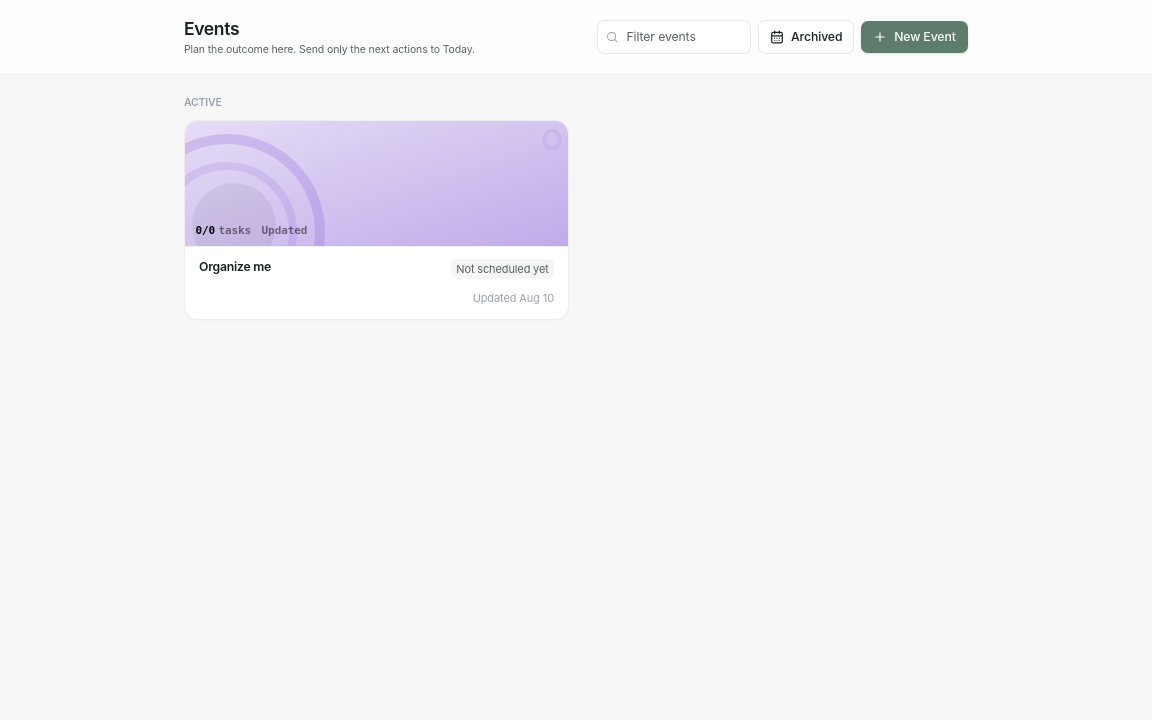
it: EventsView Event-first surface › UX S9: runs AI organize and applies the suggestion through the modal
Step 1. Click the button with test id "event-card-event-1" → (376, 220), box [184, 120, 569, 320]
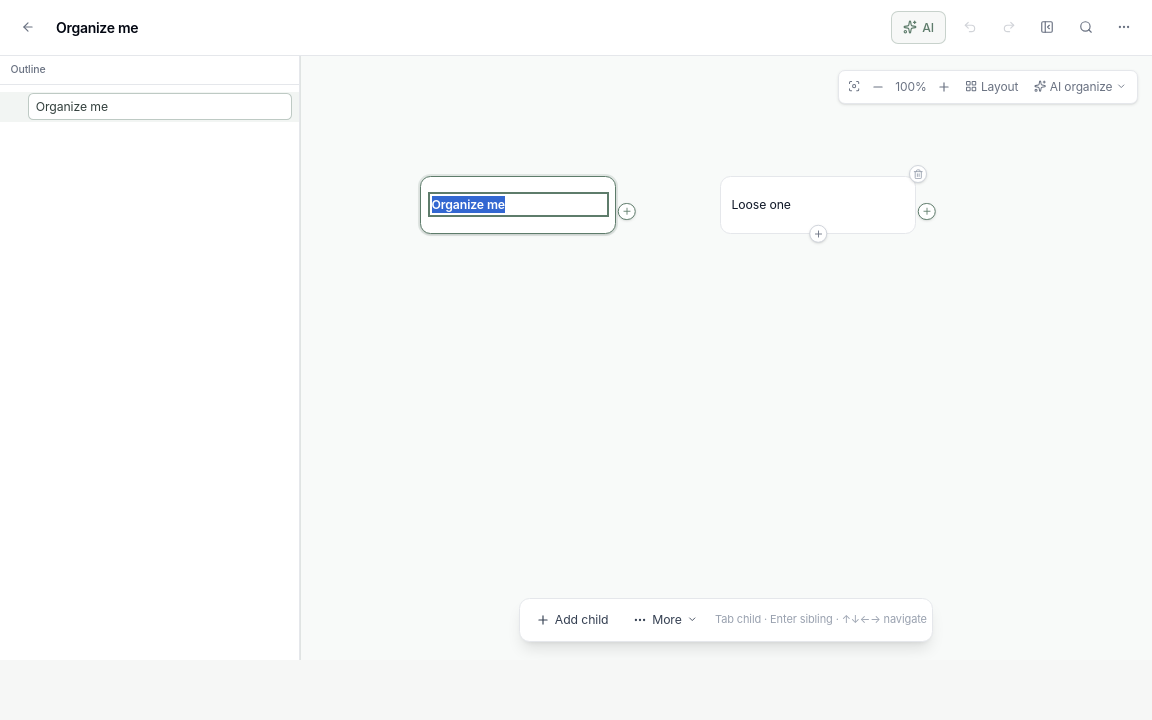
Expected: the element with test id "event-detail" is shown
Step 2. Click the button with test id "event-organize-button" → (1080, 86), box [1027, 74, 1134, 99]
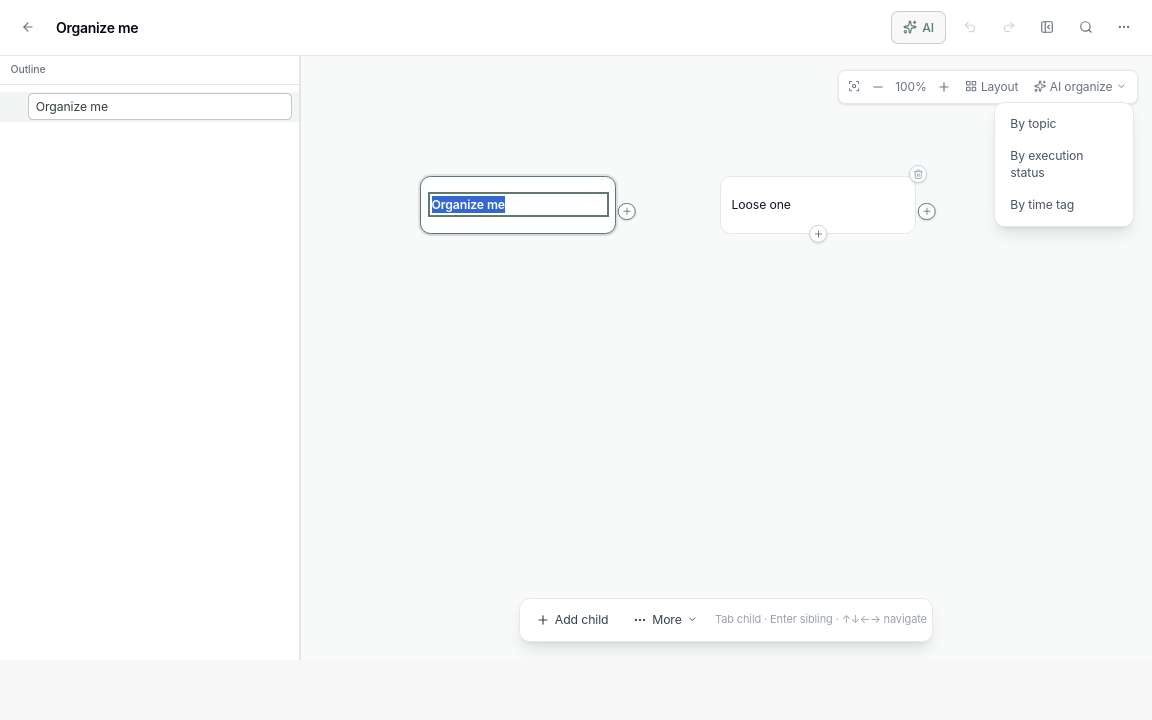
Step 3. Click the button with test id "event-organize-by_topic" → (1064, 124), box [1000, 108, 1127, 140]
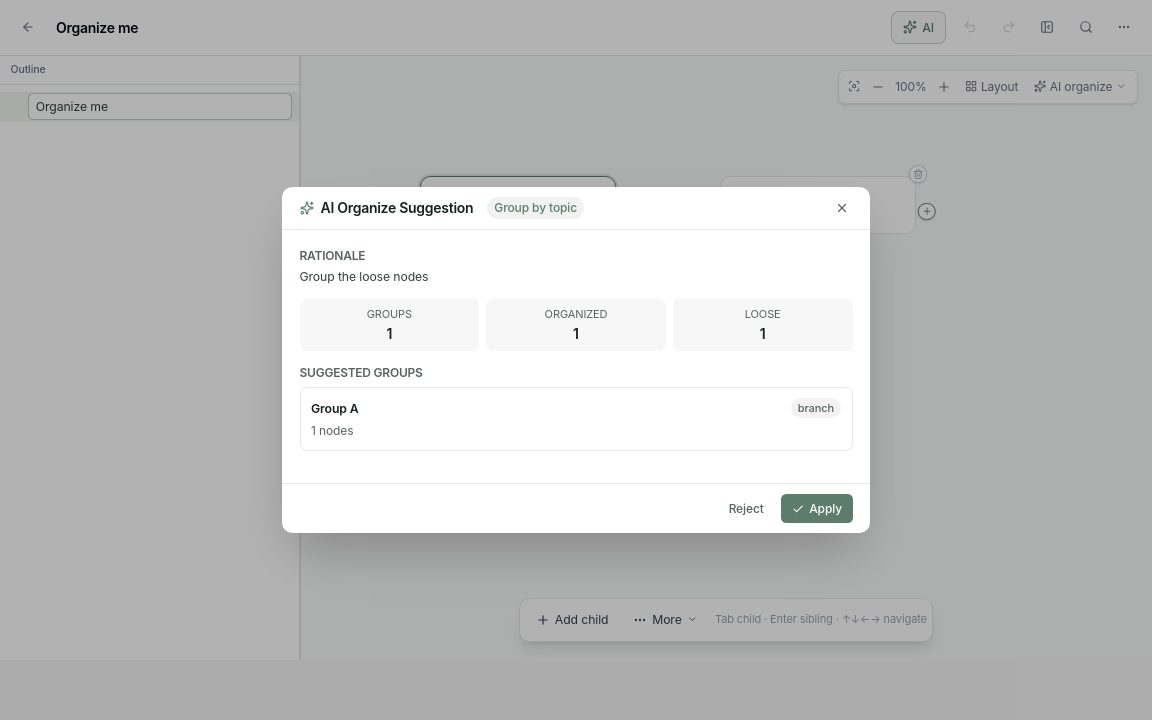
Expected: the text "Group A" is shown, [311, 400, 359, 417]
Step 4. Click the button with test id "organize-suggestion-apply" → (817, 509), box [781, 494, 852, 523]
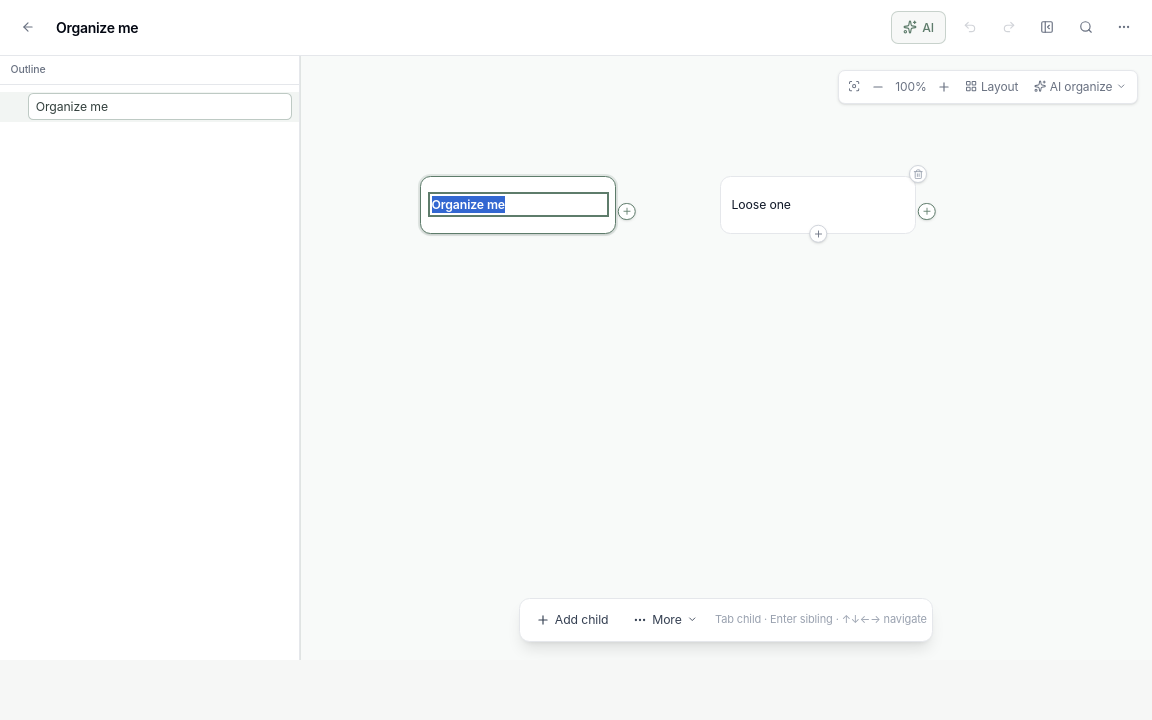
Expected: the element with test id "organize-suggestion-modal" is gone
